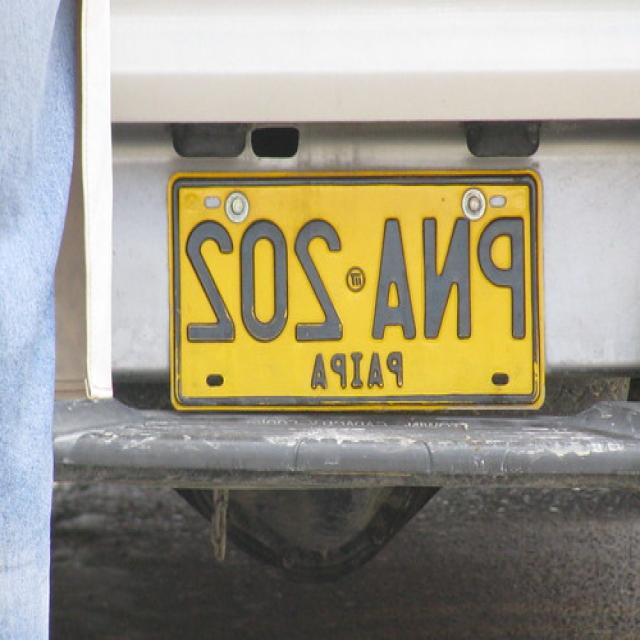placas: (174, 198, 528, 351)
